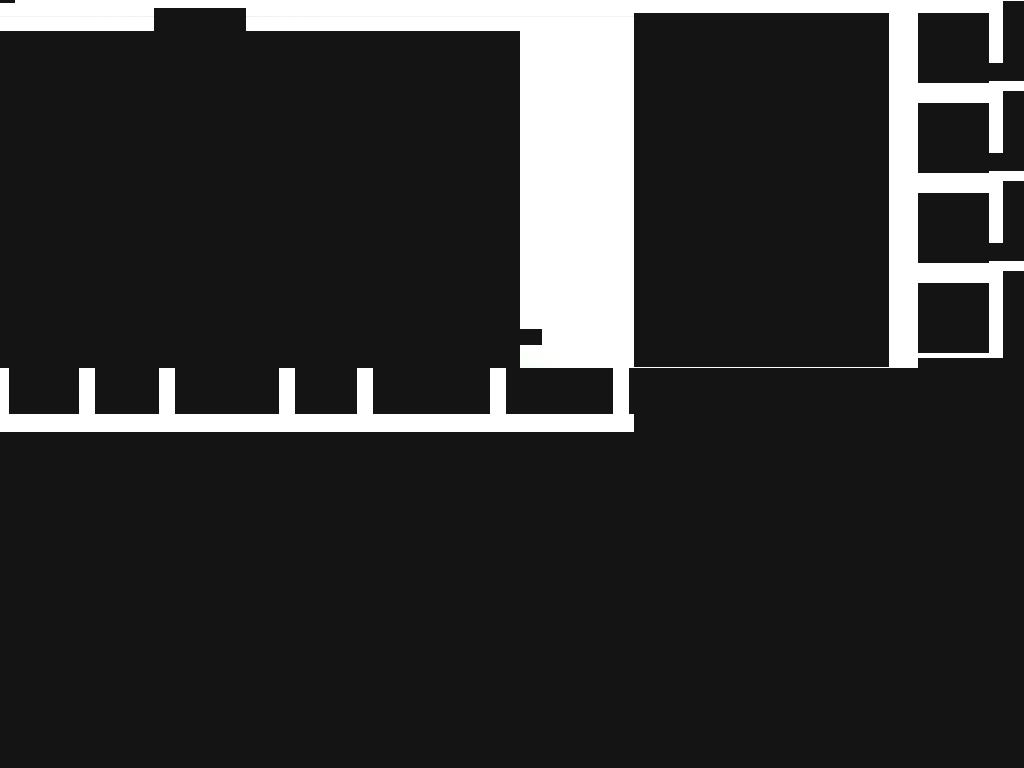button: (634, 13, 889, 311), (634, 368, 875, 682), (916, 416, 1024, 584), (373, 368, 490, 414), (506, 368, 613, 414), (175, 368, 279, 414), (9, 368, 79, 414), (95, 368, 159, 414), (295, 368, 357, 414), (916, 382, 1024, 406), (918, 63, 1024, 81), (918, 153, 1024, 171), (918, 243, 1024, 261), (935, 728, 998, 749)
iframe: (0, 31, 520, 368)
image: (0, 432, 634, 768), (25, 512, 634, 692), (634, 368, 875, 682), (634, 13, 889, 183), (48, 115, 352, 147), (154, 8, 246, 99), (129, 159, 271, 177), (359, 329, 430, 345), (178, 245, 211, 278), (109, 329, 162, 345), (244, 329, 285, 345), (507, 329, 542, 345), (0, 329, 31, 345)
link: (634, 368, 1024, 768)
text: (634, 202, 889, 311), (249, 708, 634, 768), (634, 310, 889, 367), (916, 600, 1024, 712), (918, 13, 989, 83), (918, 103, 989, 173), (918, 193, 989, 263), (918, 283, 989, 353), (916, 749, 1024, 768), (935, 728, 998, 749), (916, 728, 936, 749)
